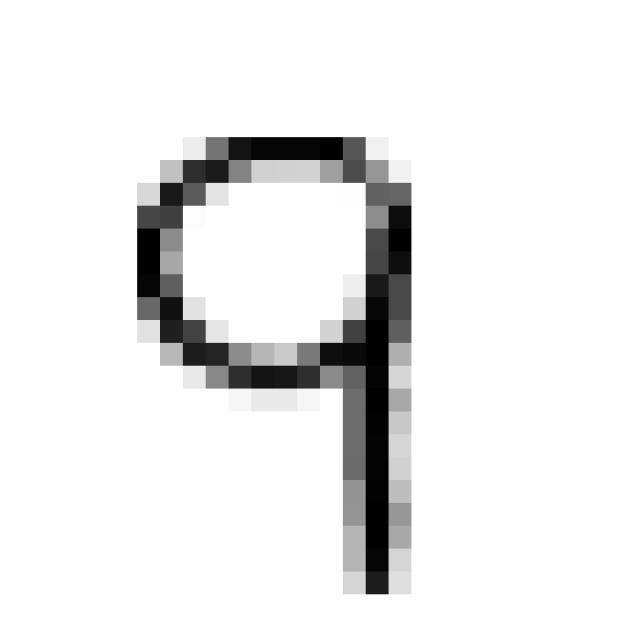9 -nine-: (110, 114, 442, 617)
